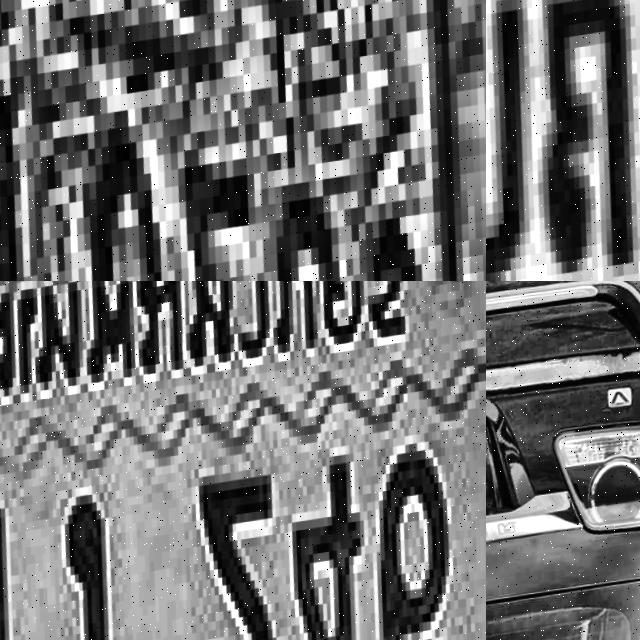license-plate: (0, 281, 486, 640), (0, 0, 486, 281), (486, 0, 640, 281)
